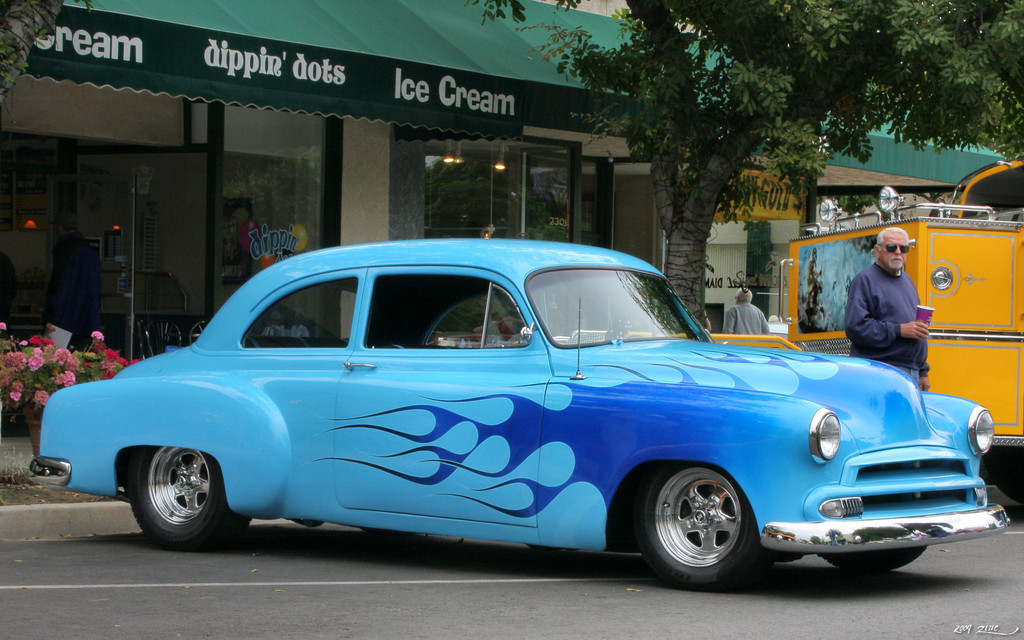Car: (55, 242, 1004, 586)
